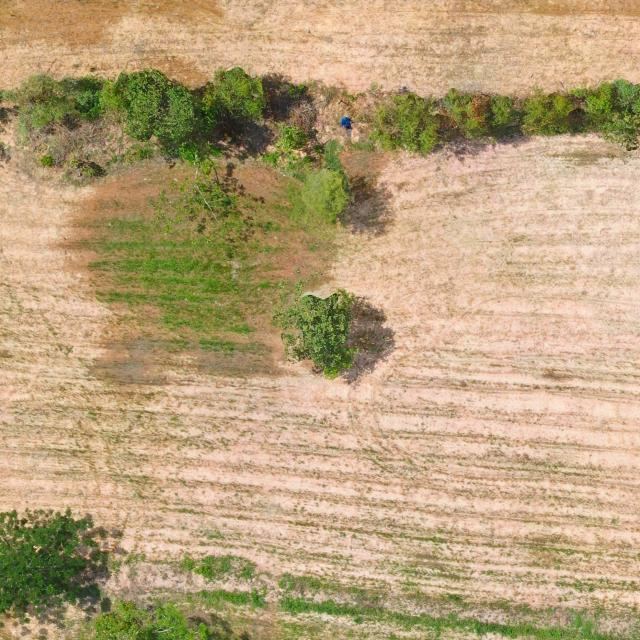Tree: (0, 506, 98, 621), (150, 161, 250, 243), (271, 288, 355, 380), (106, 67, 199, 145), (61, 601, 210, 640), (368, 89, 441, 157), (200, 66, 267, 134), (442, 86, 522, 140), (598, 77, 640, 152), (300, 167, 349, 223), (519, 88, 576, 136)
